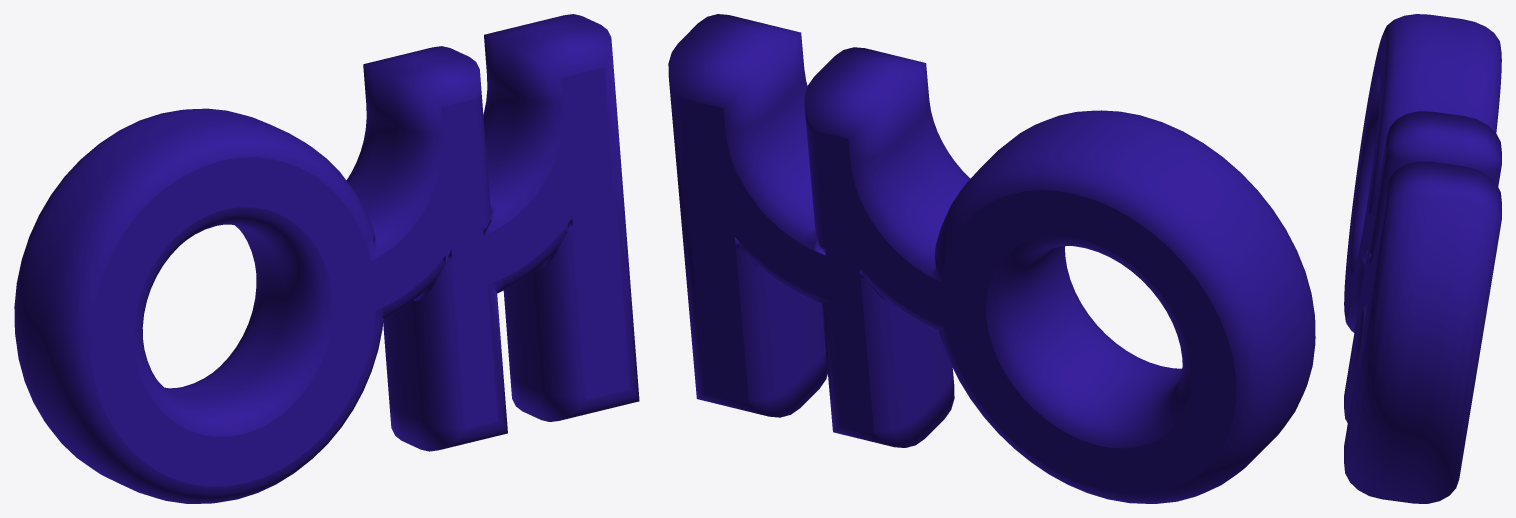
3 views of the same model, side by side, from view 1: azimuth 30°, elevation 25°; view 2: azimuth 150°, elevation 25°; view 3: azimuth 270°, elevation 25° (orthographic). The views are drawn at different scales.
Visible parts, largest first — view 1: Curve; view 2: Curve; view 3: Curve.
Part boxes in pixels (x1,y1,x2,y2): Curve: [14, 14, 639, 503]; Curve: [668, 14, 1315, 503]; Curve: [1344, 14, 1501, 503].
Size of the model in its own units: 1.02 by 0.6148 by 0.2866.
